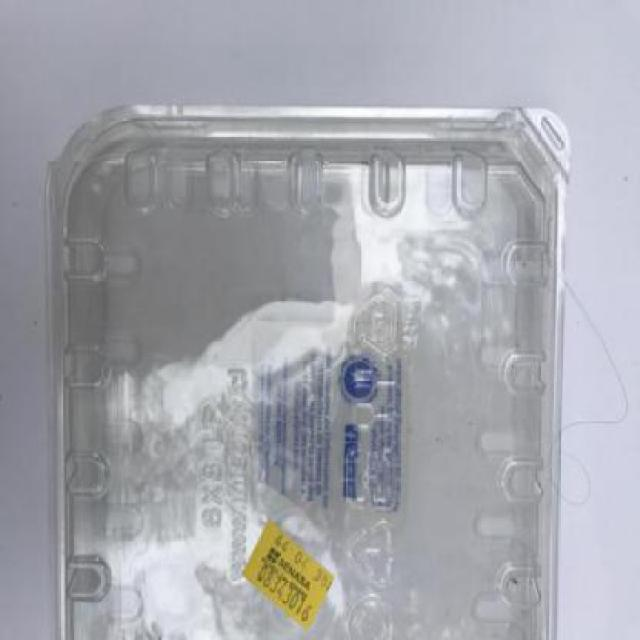PLASTIC: (43, 104, 574, 638)
